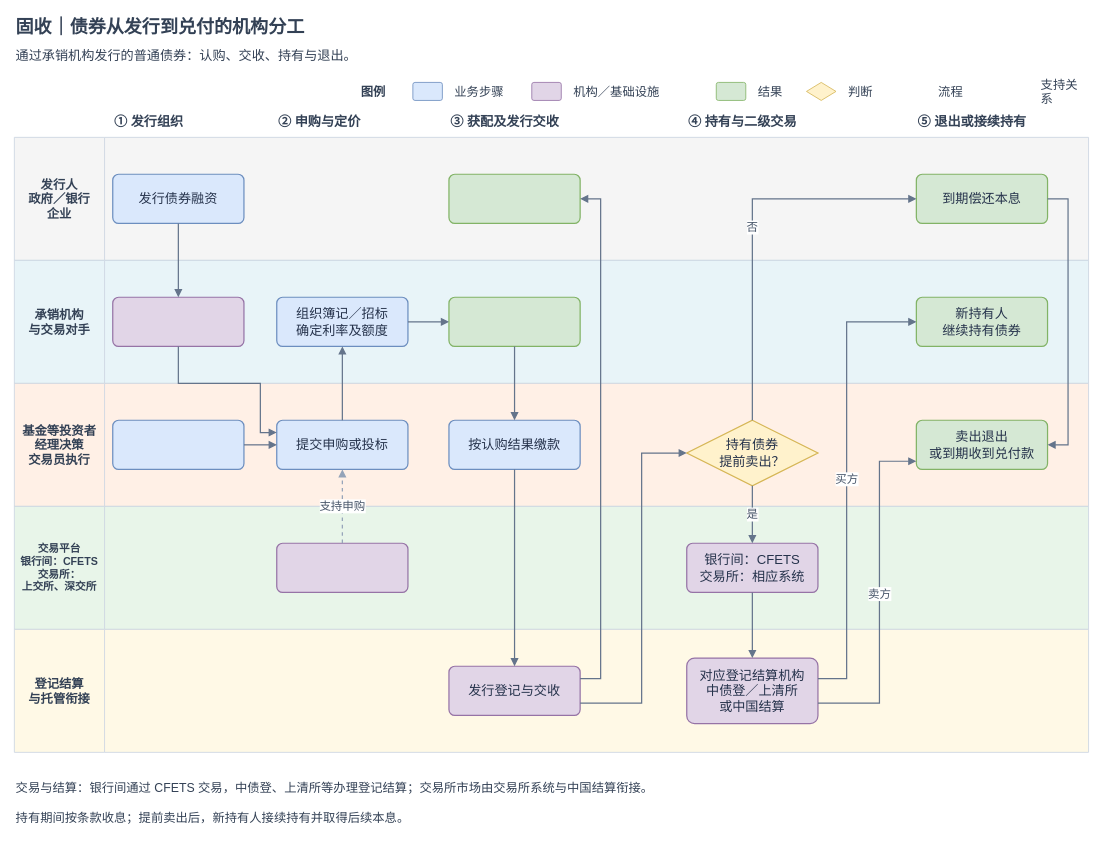
The diagram is 1103 pixels wide and 843 high, and some of its shapes have lost their labels. Each missing label, with the centre of its shape:
"一级发行渠道 簿记／招标系统" goes at point 342,567.
"中标／获配通知 办理分销" goes at point 514,321.
"取得募集资金" goes at point 514,198.
"研究信用与期限 决定标的及额度" goes at point 178,444.
"银行／券商等 组织发行与承销" goes at point 178,321.
